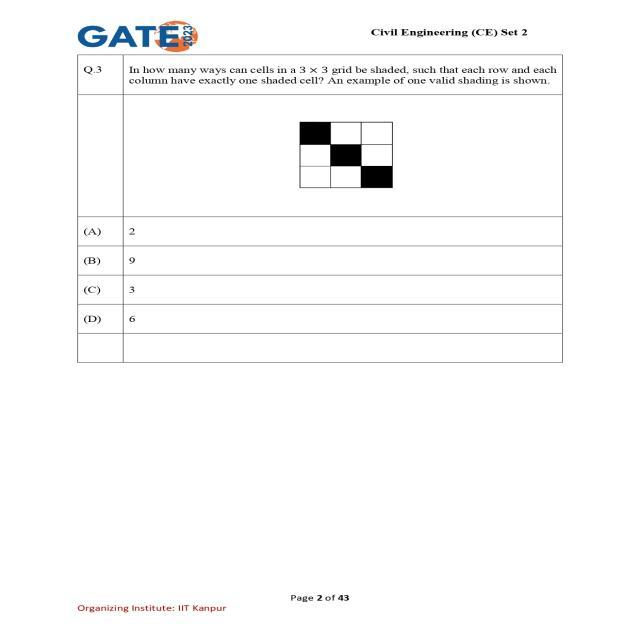Answer_Block: (71, 220, 565, 334)
Question_Answer_Block: (75, 53, 562, 362)
Question_Block: (71, 56, 561, 220)
Question_Paper_Area: (76, 56, 563, 362)
